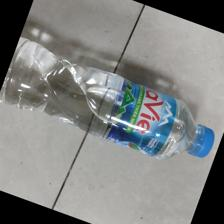Lavie: (1, 32, 216, 161)
